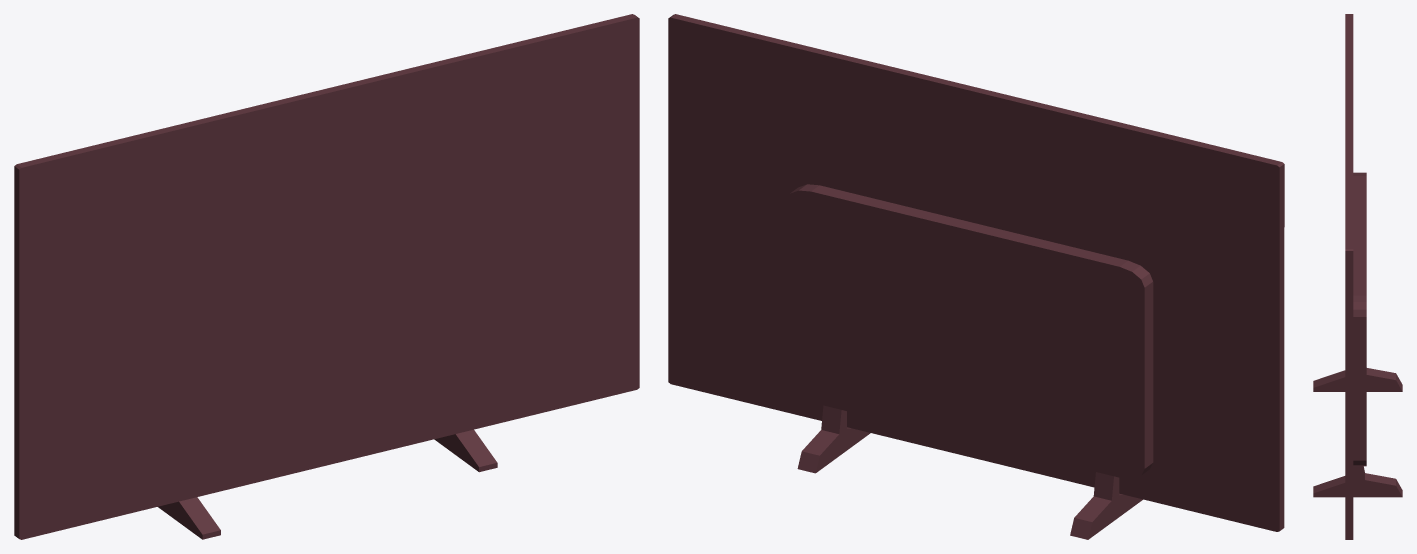
File: television-modern-stand.fbx
The picture shows the model from 3 angles, left to right: view 1: azimuth 30°, elevation 25°; view 2: azimuth 150°, elevation 25°; view 3: azimuth 270°, elevation 25°; orthographic projection. The views are drawn at different scales.
Parts seen in each view (by area): view 1: television-modern-stand; view 2: television-modern-stand; view 3: television-modern-stand.
Part boxes in pixels (x1,y1,x2,y2): television-modern-stand: [14, 14, 639, 539]; television-modern-stand: [668, 14, 1284, 539]; television-modern-stand: [1313, 14, 1402, 539].
Size of the model in its own units: 1.44 by 0.879 by 0.23.
